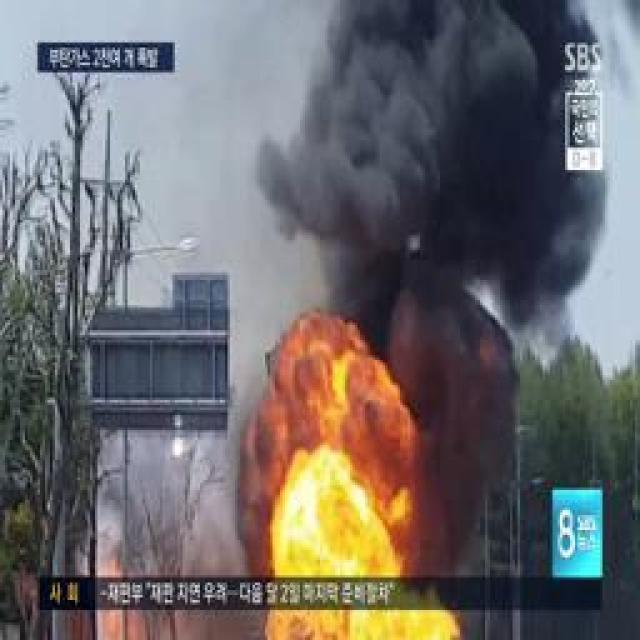Fire: (272, 367, 402, 580), (268, 610, 448, 638)
